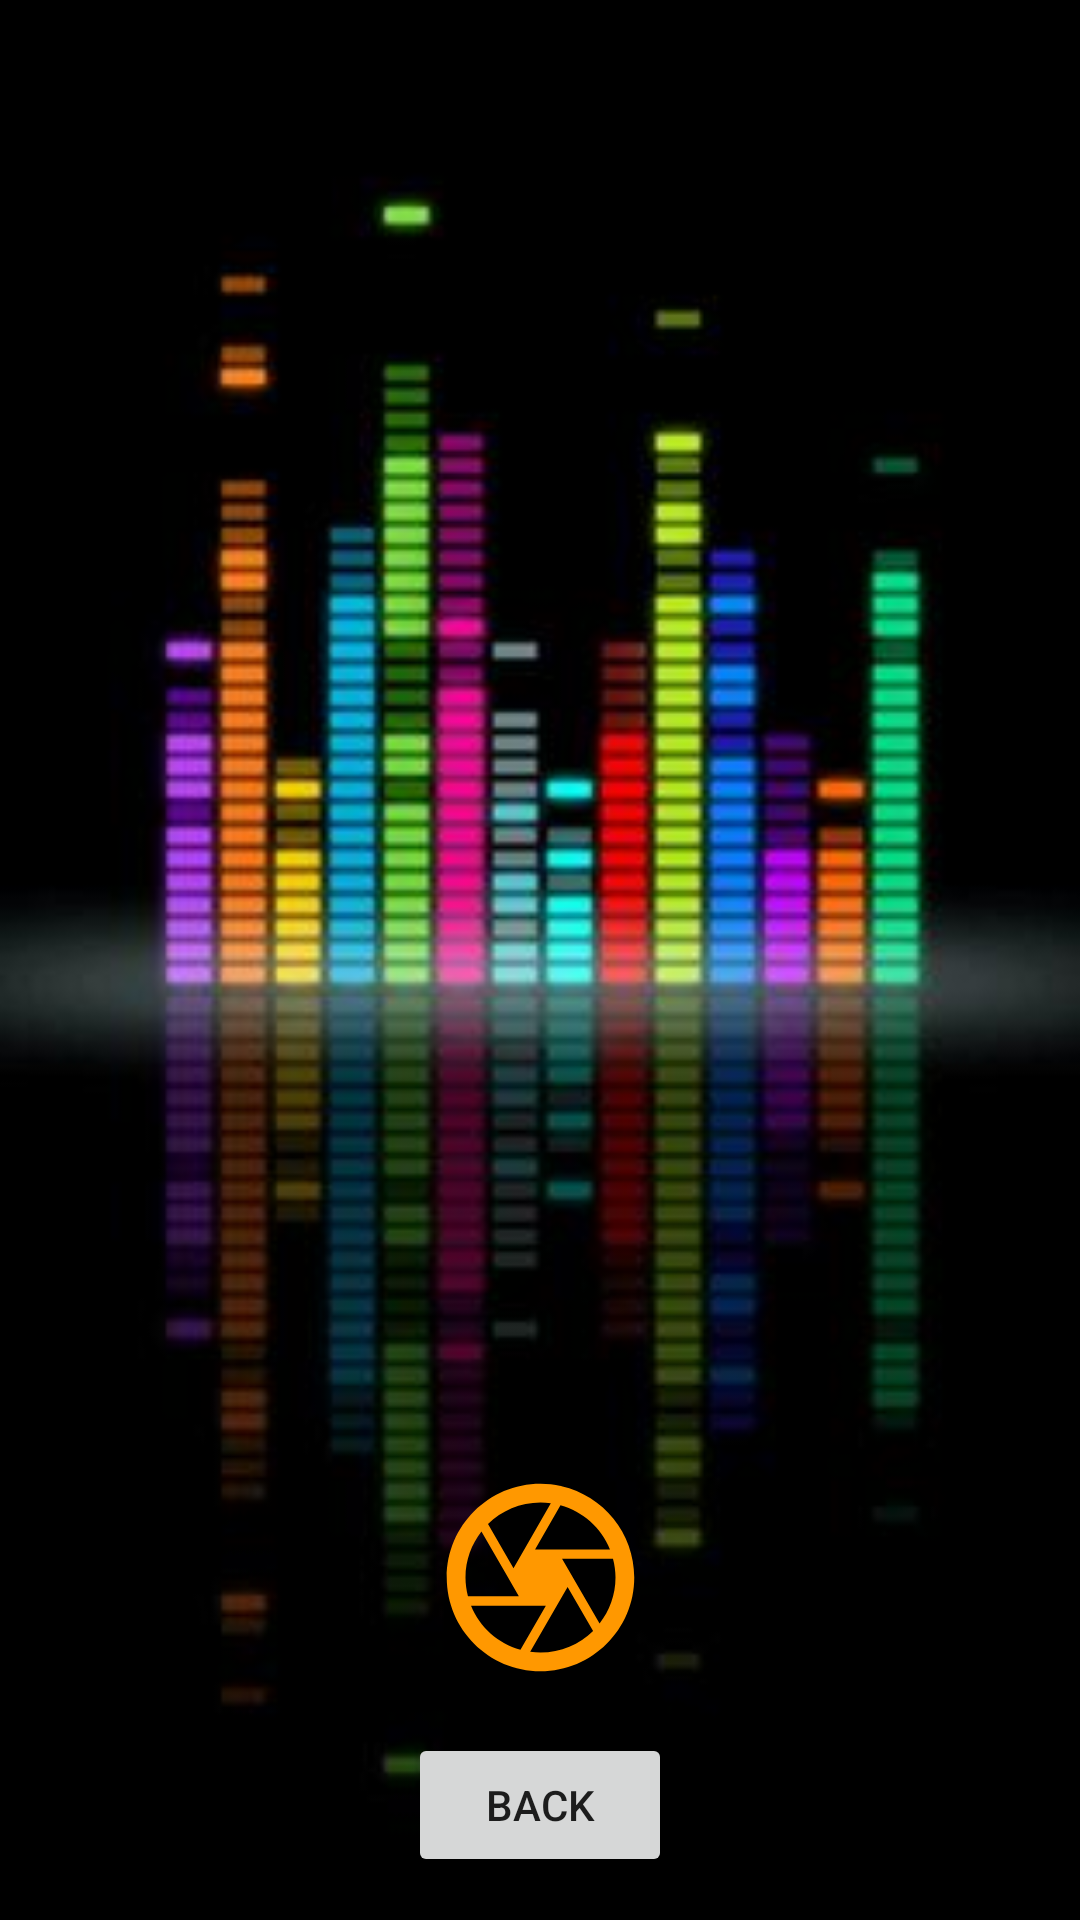

Point at icon controls on the screen. Image size 1080w x 1920h, points as (x=x, y=y).
camera: (x=537, y=1568)
